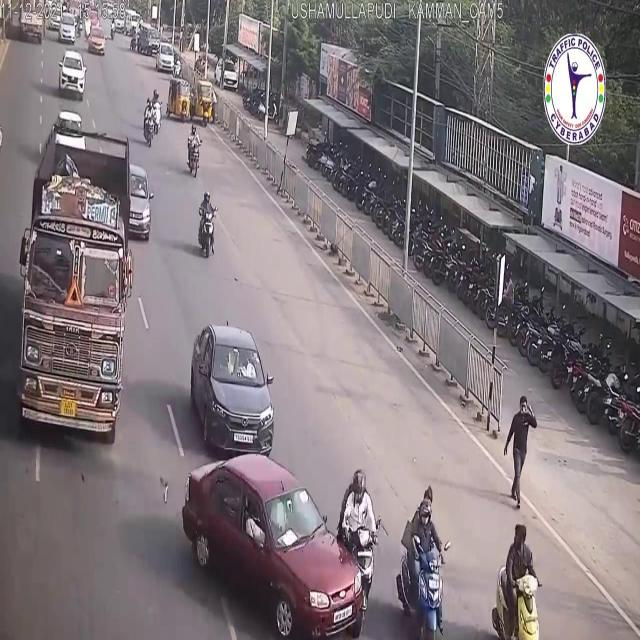accident: (183, 442, 386, 640)
non_accident: (18, 113, 152, 467), (138, 20, 178, 78), (140, 86, 164, 151)
